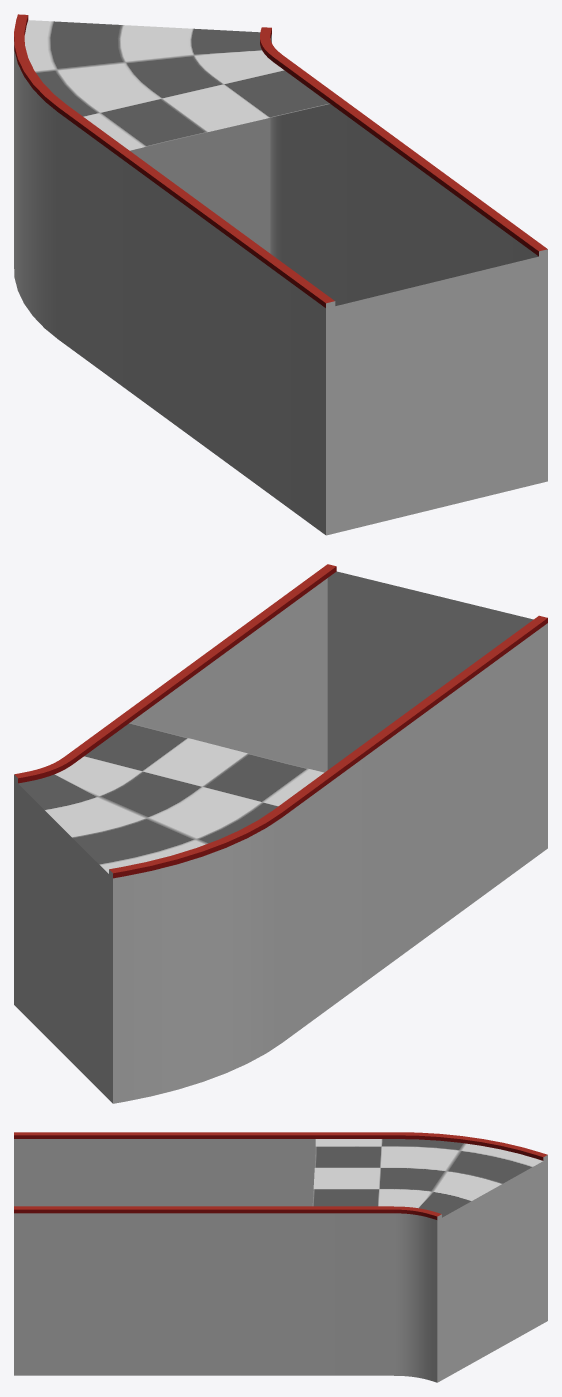
Rendered from Road_Curve_012.fbx.
3 renders of one model, top to bottom at view 1: azimuth 30°, elevation 25°; view 2: azimuth 150°, elevation 25°; view 3: azimuth 270°, elevation 25°, orthographic. The views are drawn at different scales.
Visible parts, largest first — view 1: Road_Curve_012, Road_Curve_012_Border; view 2: Road_Curve_012, Road_Curve_012_Border; view 3: Road_Curve_012, Road_Curve_012_Border.
Boxes of the visible parts, x1=… form: Road_Curve_012: x1=14, y1=20, x2=547, y2=535; Road_Curve_012_Border: x1=14, y1=14, x2=547, y2=308; Road_Curve_012: x1=14, y1=571, x2=547, y2=1103; Road_Curve_012_Border: x1=14, y1=564, x2=547, y2=878; Road_Curve_012: x1=14, y1=1139, x2=547, y2=1382; Road_Curve_012_Border: x1=14, y1=1132, x2=547, y2=1220.
Bounding box in the file's own units: 955 × 876 × 2551.
